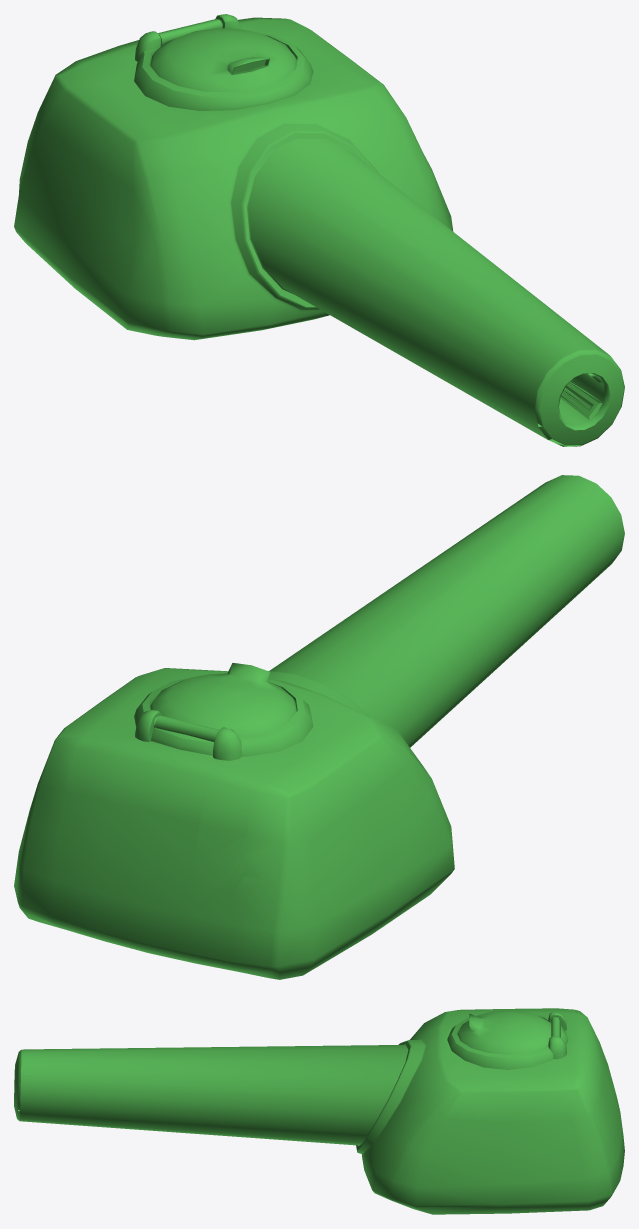
File: TankTop.fbx
3 renders of one model, top to bottom at view 1: azimuth 30°, elevation 25°; view 2: azimuth 150°, elevation 25°; view 3: azimuth 270°, elevation 25°, orthographic. The views are drawn at different scales.
Parts seen in each view (by area): view 1: TankTurret; view 2: TankTurret; view 3: TankTurret.
Part boxes in pixels (x1,y1,x2,y2): TankTurret: (14, 14, 624, 446); TankTurret: (14, 475, 624, 979); TankTurret: (14, 1008, 624, 1214).
Bounding box in the file's own units: 97.03 × 64.29 × 230.
